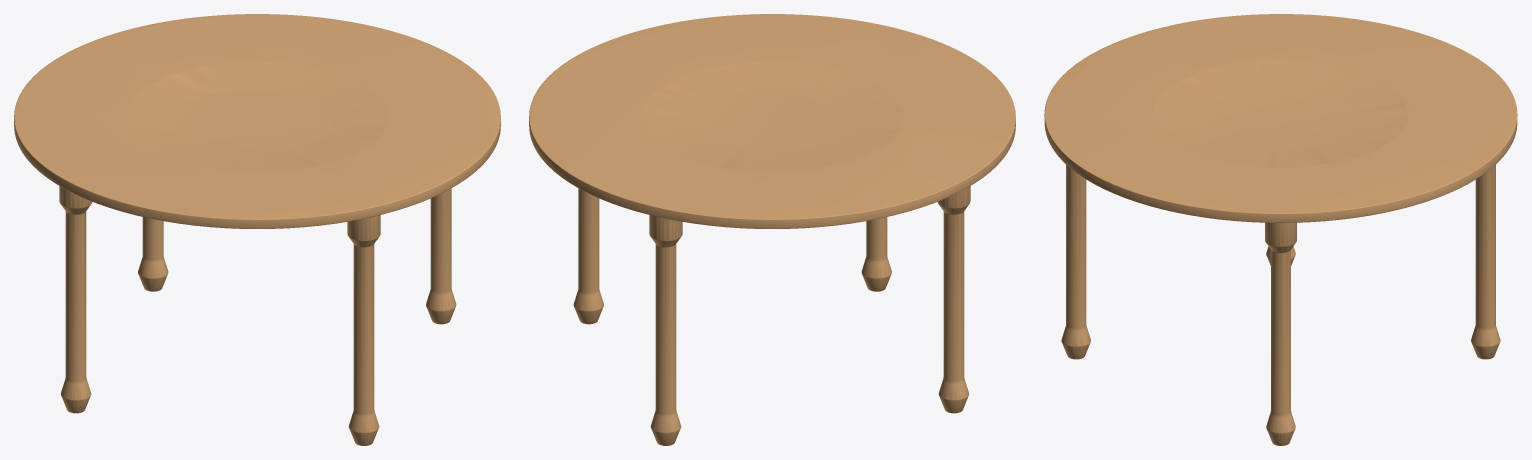
File: table9.obj
3 renders of one model, left to right at view 1: azimuth 30°, elevation 25°; view 2: azimuth 150°, elevation 25°; view 3: azimuth 270°, elevation 25°, orthographic. The views are drawn at different scales.
Visible parts, largest first — view 1: table9; view 2: table9; view 3: table9.
Boxes of the visible parts, bbox=[...] form: table9: bbox=[14, 14, 500, 445]; table9: bbox=[529, 14, 1015, 445]; table9: bbox=[1044, 14, 1517, 445].
Bounding box in the file's own units: 1.33 × 0.75 × 1.33.
